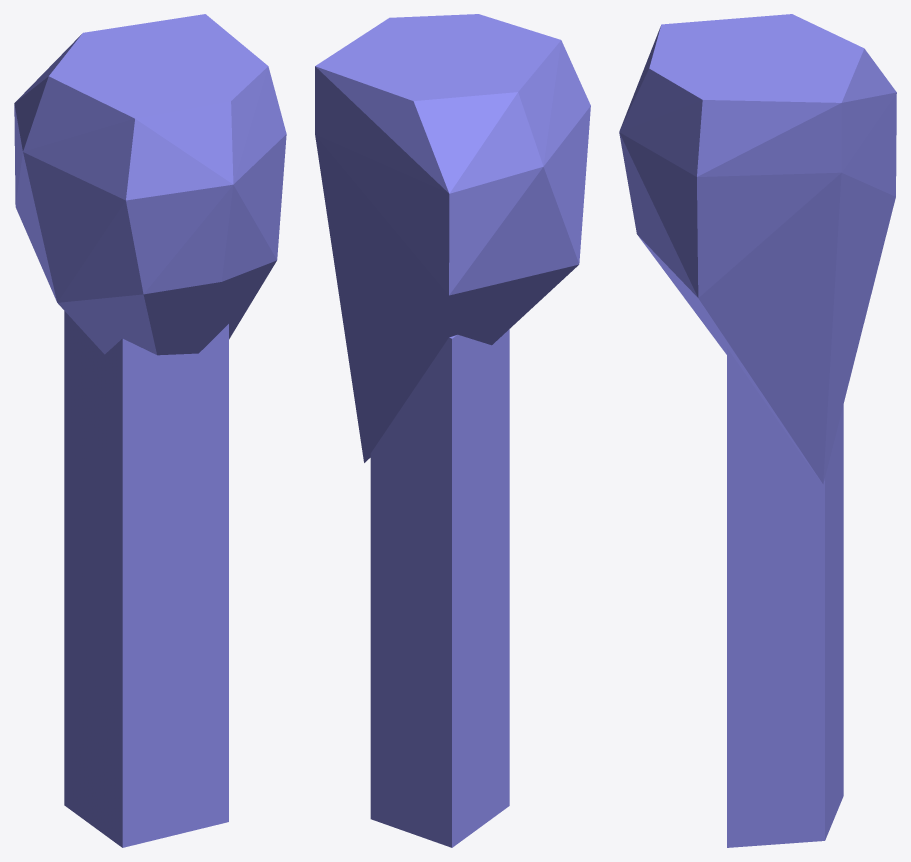
The model's file is Cliff_Spire_04_Collider_01.FBX.
The picture shows the model from 3 angles, left to right: view 1: azimuth 30°, elevation 25°; view 2: azimuth 150°, elevation 25°; view 3: azimuth 270°, elevation 25°; orthographic projection.
Visible parts, largest first — view 1: COLLIDER1, COLLIDER2; view 2: COLLIDER2, COLLIDER1; view 3: COLLIDER2, COLLIDER1.
Boxes of the visible parts, left/top/right/bottom form: COLLIDER1: left=64, top=311, right=228, bottom=847; COLLIDER2: left=14, top=14, right=286, bottom=355; COLLIDER2: left=315, top=14, right=590, bottom=462; COLLIDER1: left=370, top=329, right=509, bottom=847; COLLIDER2: left=619, top=14, right=896, bottom=483; COLLIDER1: left=727, top=348, right=843, bottom=847.
Bounding box in the file's own units: 104 × 347 × 115.
